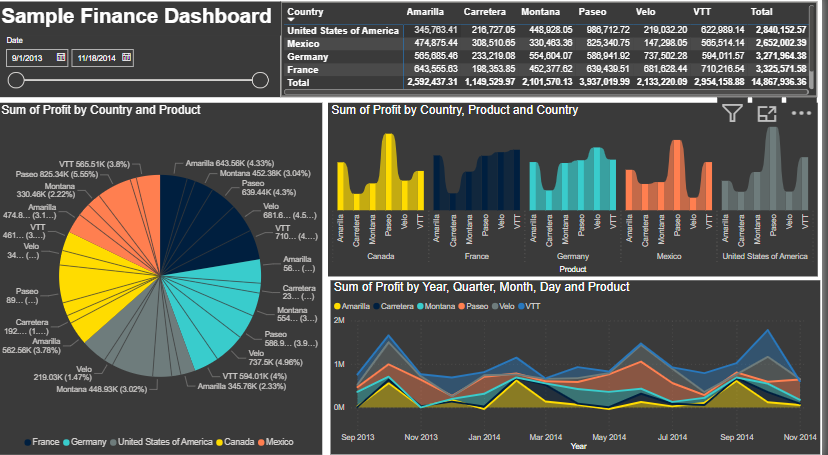

The dashboard page shown, as its layout file describes it:
{"tool":"powerbi","page":{"name":"Profits","canvas":[1280,720],"ordinal":0},"visuals":[{"type":"ribbonChart","fields":{"Category":["financials.Country","financials.Product"],"Series":["financials.Country"],"Y":["Sum(financials.Profit)"]},"box":[512.1,168.8,760.4,269.6],"z":0},{"type":"stackedAreaChart","fields":{"Category":["financials.Date.Variation.Date Hierarchy.Year","financials.Date.Variation.Date Hierarchy.Quarter","financials.Date.Variation.Date Hierarchy.Month","financials.Date.Variation.Date Hierarchy.Day"],"Y":["Sum(financials.Profit)"],"Series":["financials.Product"]},"box":[516.4,443.9,759.7,270.1],"z":1000},{"type":"slicer","fields":{"Values":["financials.Date"]},"box":[0,59.3,438.7,100.2],"z":2000},{"type":"pieChart","fields":{"Y":["Sum(financials.Profit)"],"Category":["financials.Country"],"Series":["financials.Product"]},"box":[0,167.8,503.5,546.2],"z":3000},{"type":"pivotTable","fields":{"Rows":["financials.Country"],"Values":["Sum(financials.Profit)"],"Columns":["financials.Product"]},"box":[438.9,10.9,833.1,149],"z":4000},{"type":"textbox","box":[0,10.9,438.9,52.6],"z":5000}]}

Visuals, with their boxes in screenshot pixels (x1, y1, x2, y2), scaled from the page's 1280x720 canvas onto the 828x455 screenshot:
ribbonChart - financials.Country x financials.Product: 331/107/823/277
stackedAreaChart - financials.Date.Variation.Date Hierarchy.Year x financials.Date.Variation.Date Hierarchy.Quarter: 334/281/825/451
slicer - financials.Date: 0/37/284/101
pieChart - Sum(financials.Profit) x financials.Country: 0/106/326/451
pivotTable - financials.Country x Sum(financials.Profit): 284/7/823/101
textbox: 0/7/284/40
